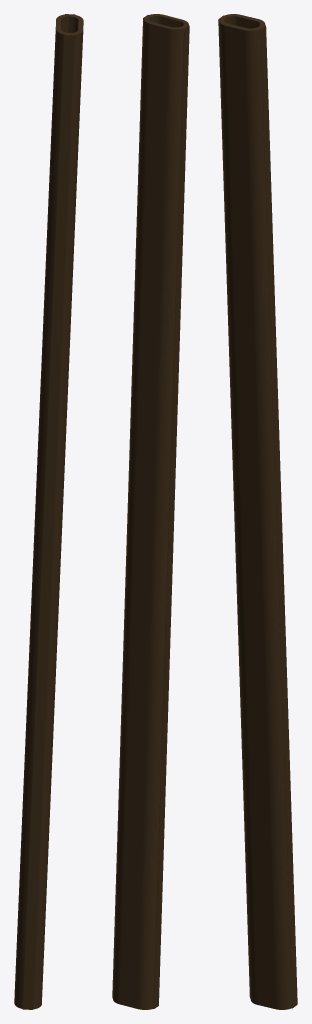
The model's file is stick.fbx.
3 renders of one model, left to right at view 1: azimuth 90°, elevation 25°; view 2: azimuth 150°, elevation 25°; view 3: azimuth 330°, elevation 25°, orthographic. The views are drawn at different scales.
Visible parts, largest first — view 1: Cube.001; view 2: Cube.001; view 3: Cube.001.
Part boxes in pixels (box(x1,y1,x2,y2)): Cube.001: box(14, 14, 83, 1009); Cube.001: box(112, 14, 189, 1009); Cube.001: box(218, 14, 297, 1009).
Size of the model in its own units: 15.74 by 279 by 17.89.
